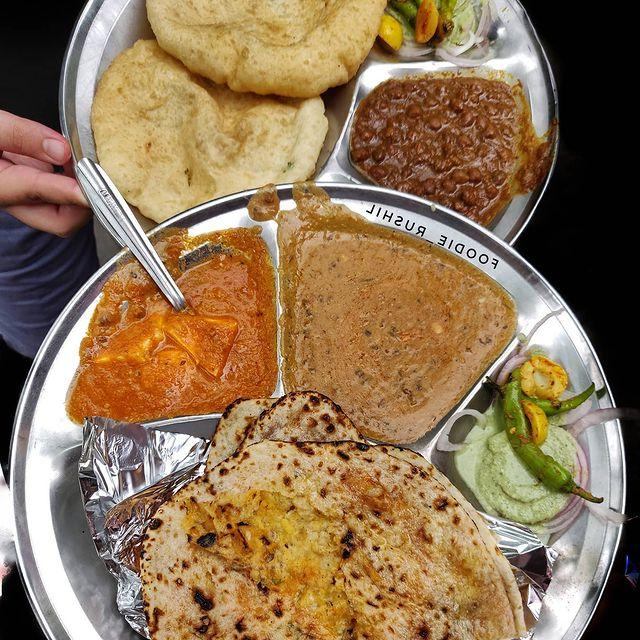Chole: (351, 70, 530, 206)
